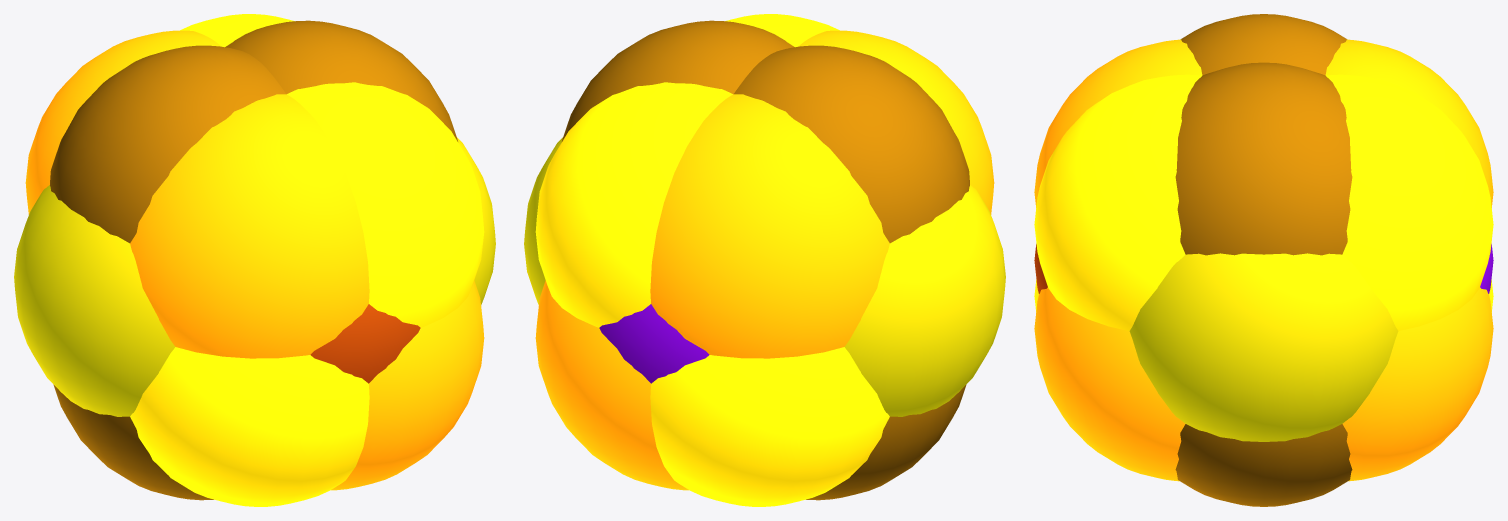
Rendered from atom.glb.
3 renders of one model, left to right at view 1: azimuth 30°, elevation 25°; view 2: azimuth 150°, elevation 25°; view 3: azimuth 270°, elevation 25°, orthographic. The views are drawn at different scales.
Visible parts, largest first — view 1: Atom 4.4, Atom 4.2, Atom 4.3, Atom 2.1, Atom 3.3, Atom 4.1, Atom 3.2, Atom 4.5, Atom 3.1, Atom 1.2, Atom 4.6, Atom 2.2; view 2: Atom 4.5, Atom 4.7, Atom 4.6, Atom 2.1, Atom 3.3, Atom 4.8, Atom 3.2, Atom 4.4, Atom 3.1, Atom 1.1, Atom 4.3, Atom 2.2; view 3: Atom 2.2, Atom 3.2, Atom 4.3, Atom 4.6, Atom 4.1, Atom 4.8, Atom 3.4, Atom 3.3, Atom 4.4, Atom 4.5.
Boxes of the visible parts, x1,y1,x2,y2 form: Atom 4.4: (130, 94, 369, 358); Atom 4.2: (130, 347, 369, 506); Atom 4.3: (287, 82, 484, 327); Atom 2.1: (14, 185, 175, 416); Atom 3.3: (50, 45, 285, 243); Atom 4.1: (331, 280, 484, 490); Atom 3.2: (225, 20, 457, 141); Atom 4.5: (25, 30, 221, 214); Atom 3.1: (53, 384, 213, 500); Atom 1.2: (310, 304, 420, 383); Atom 4.6: (180, 14, 294, 47); Atom 2.2: (457, 137, 495, 305); Atom 4.5: (650, 94, 889, 358); Atom 4.7: (650, 347, 889, 506); Atom 4.6: (535, 82, 732, 327); Atom 2.1: (844, 185, 1005, 416); Atom 3.3: (734, 45, 969, 243); Atom 4.8: (535, 280, 688, 490); Atom 3.2: (562, 20, 794, 141); Atom 4.4: (798, 30, 994, 214); Atom 3.1: (806, 384, 966, 500); Atom 1.1: (599, 304, 709, 383); Atom 4.3: (725, 14, 839, 47); Atom 2.2: (524, 137, 562, 305); Atom 2.2: (1129, 253, 1398, 441); Atom 3.2: (1175, 62, 1352, 255); Atom 4.3: (1034, 74, 1201, 330); Atom 4.6: (1326, 74, 1493, 330); Atom 4.1: (1034, 287, 1185, 481); Atom 4.8: (1342, 287, 1493, 481); Atom 3.4: (1175, 424, 1352, 506); Atom 3.3: (1180, 14, 1347, 75); Atom 4.4: (1034, 39, 1202, 207); Atom 4.5: (1325, 39, 1493, 207).
Size of the model in its own units: 6.5 by 6 by 6.
